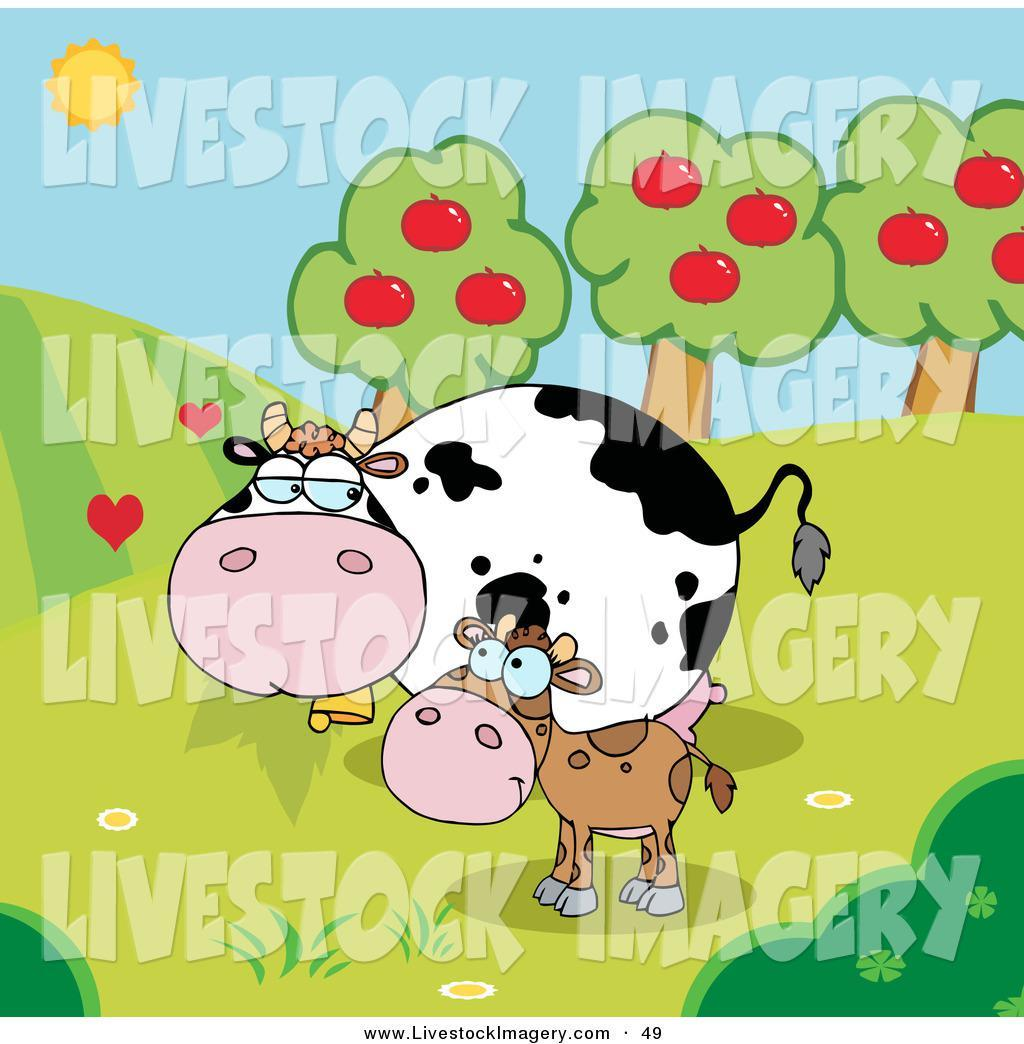cow: (156, 357, 839, 778), (370, 616, 741, 920)
